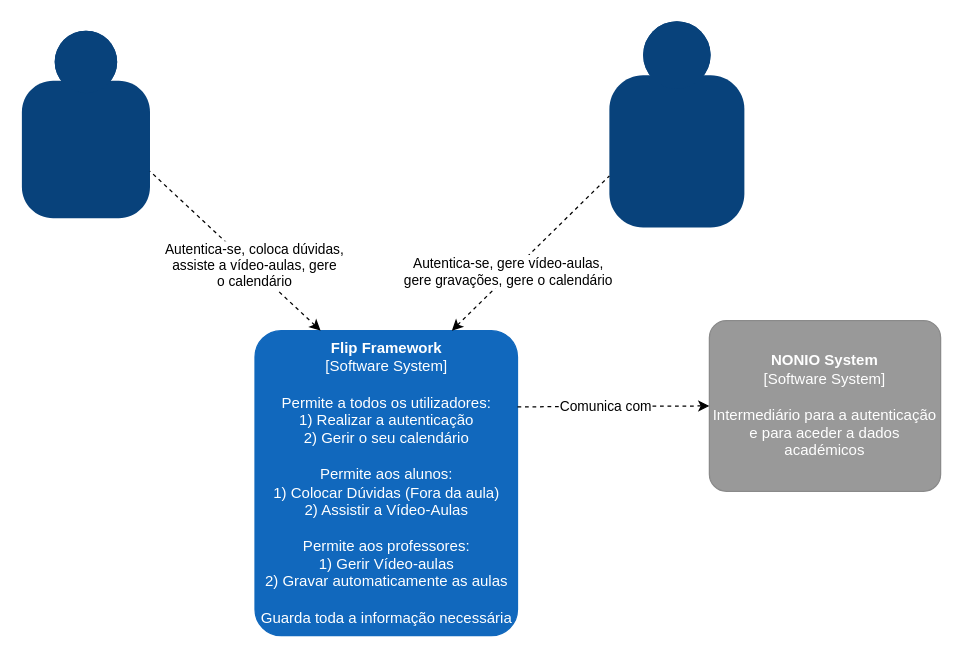
This 963x658 diagram has some shape labels left out. Here are the shapes that lost their labels. From the top down, the centre of each, then its label:
the point at 85,124: Student (User) [Person] Estudante que usa o sistema
the point at 676,124: Teacher (User) [Person] Professor que usa o sistema
